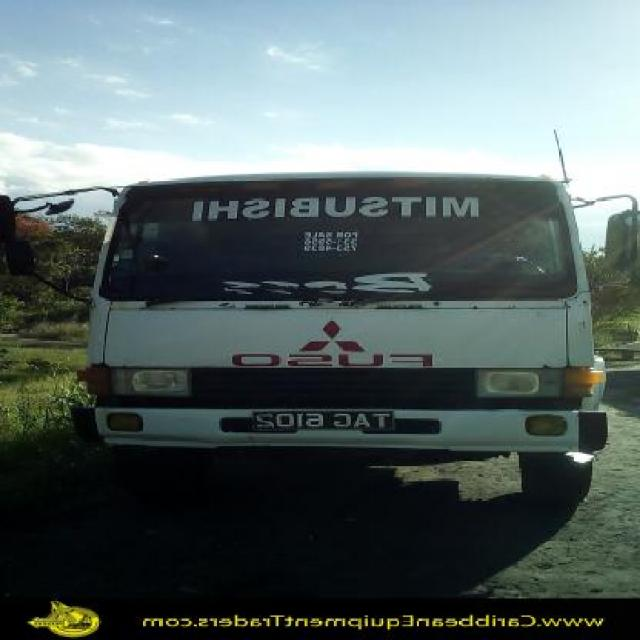truck: (63, 178, 640, 503)
